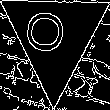O_E: (31, 15, 78, 60)
